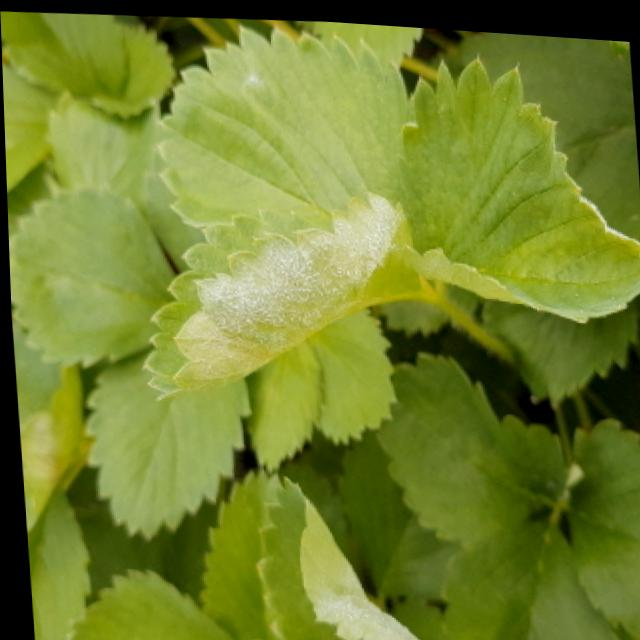Powdery Mildew Leaf: (387, 44, 640, 316), (137, 186, 406, 400), (150, 18, 413, 230), (247, 471, 425, 640)
